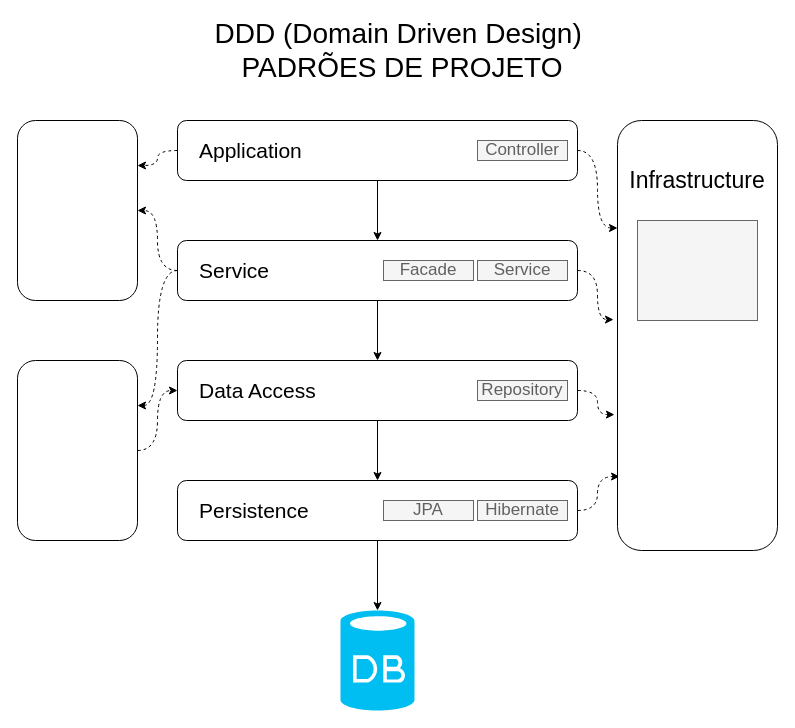
Some shapes in this 795 by 728 pixel diagram are drawn without their labels. Here are the shapes that lost their labels. From the top down, the centre of each, then its label:
At (77,210): "DTO".
At (697,270): "Converters, Logging, Transaction Management...".
At (77,450): "DO".
